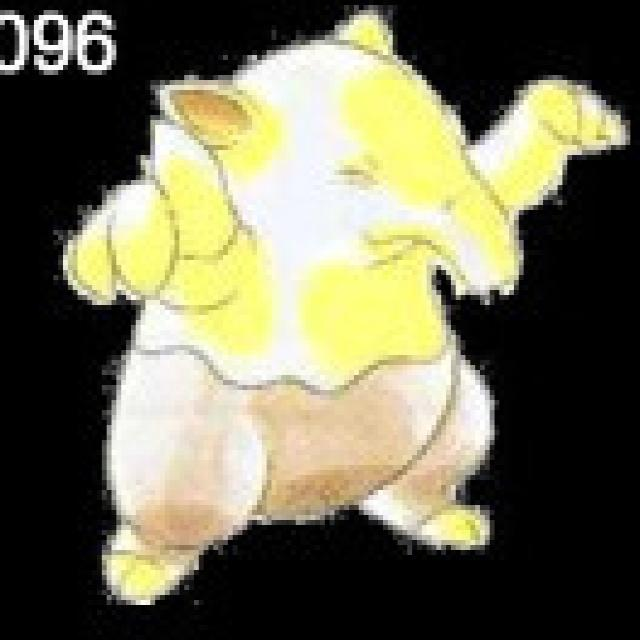Drowzee: (63, 14, 627, 594)
